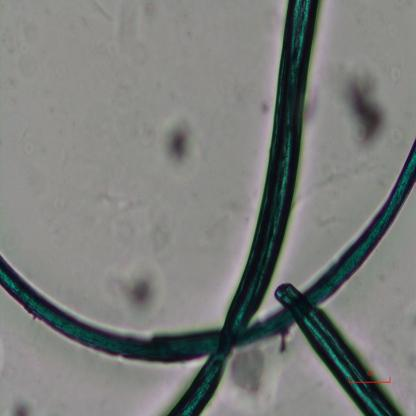Background material: (334, 58, 386, 142), (103, 264, 166, 318), (160, 114, 195, 167), (7, 395, 34, 415)
Easylift tab: (230, 348, 271, 402)
Microfibre: (0, 136, 416, 365), (163, 0, 320, 414), (275, 281, 400, 414)
